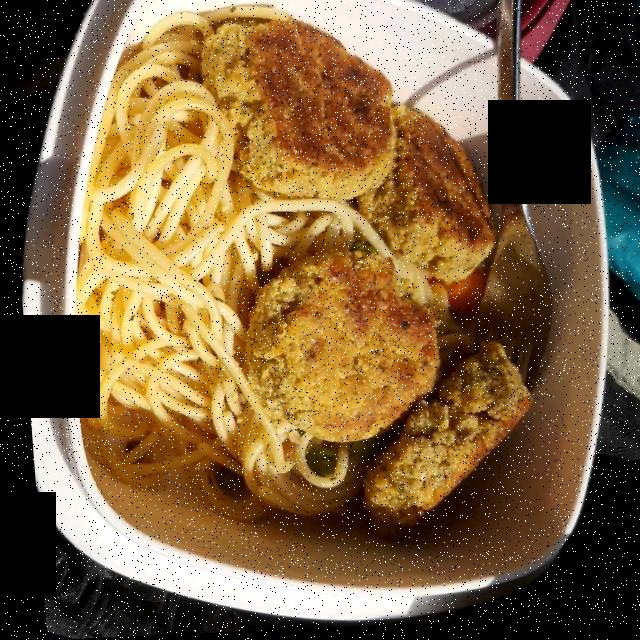falafel-balls: (200, 16, 519, 525)
pasta-spaghetti: (98, 19, 443, 517)
